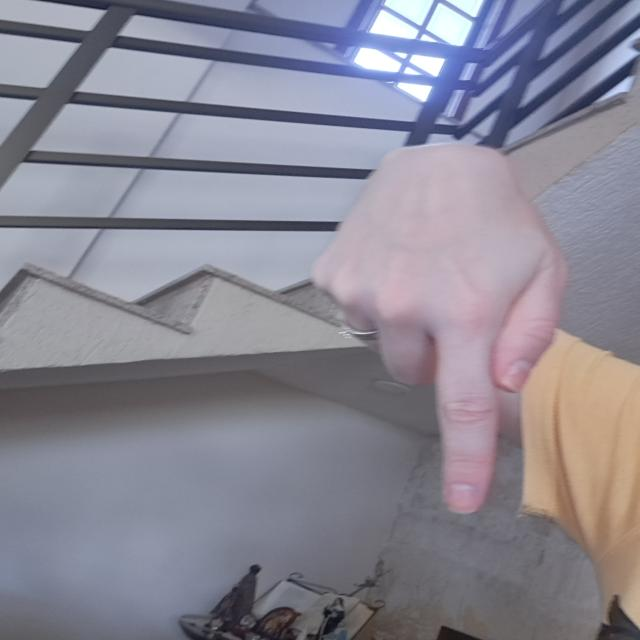Q: (314, 137, 570, 524)
